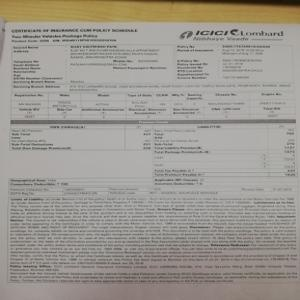image: (175, 24, 288, 42)
table: (10, 119, 300, 178), (12, 88, 297, 119)
text: (11, 197, 296, 282), (15, 41, 279, 80), (7, 22, 138, 43)
